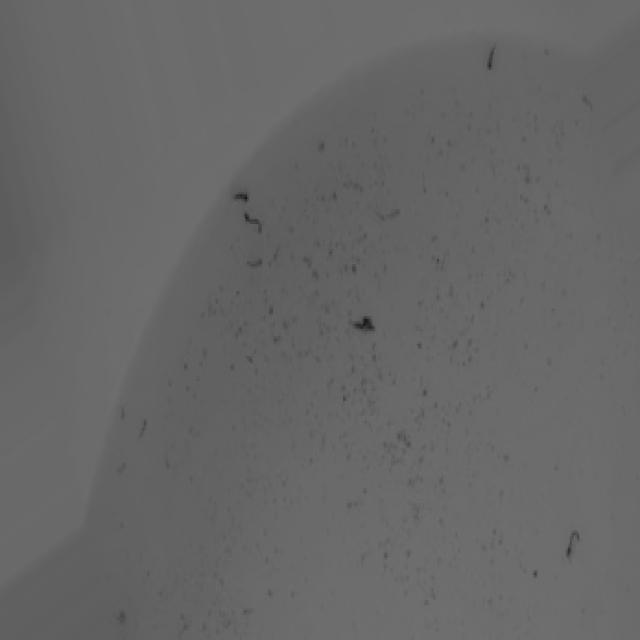larvas: (486, 36, 500, 72), (351, 315, 376, 332), (565, 532, 580, 558), (244, 214, 262, 234), (382, 208, 401, 225), (582, 92, 593, 110), (248, 259, 265, 268), (138, 419, 146, 438), (233, 193, 249, 201), (120, 405, 126, 421)
